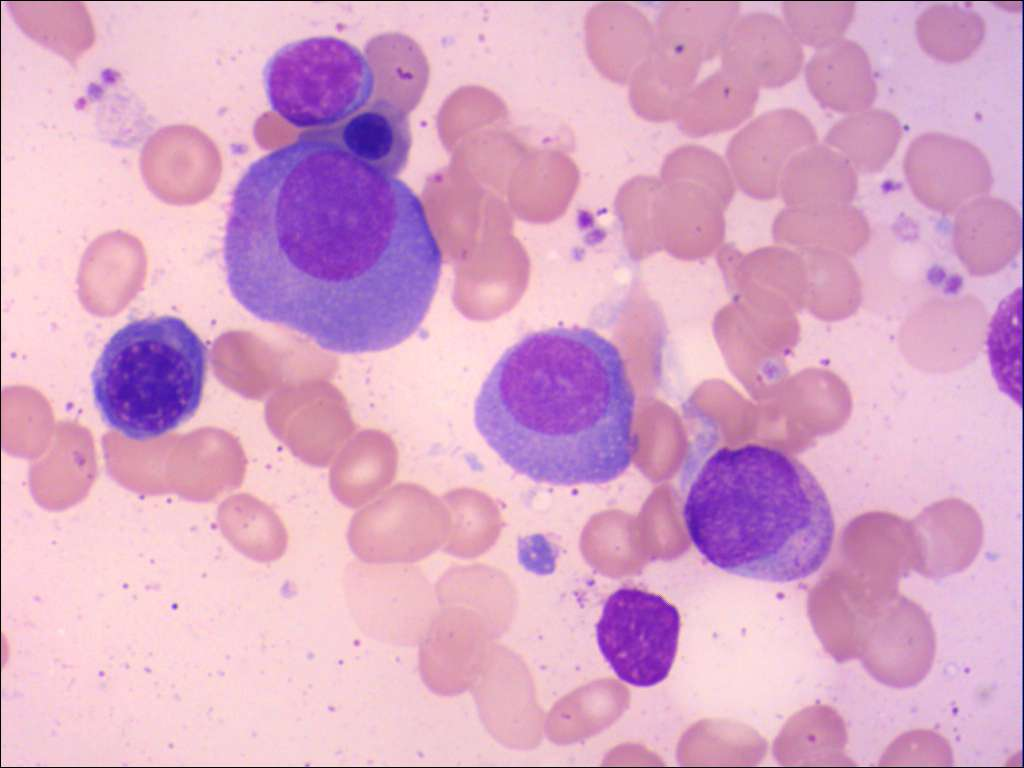23: (87, 312, 213, 444)
24: (295, 94, 415, 181)
3: (679, 442, 836, 587)
32: (258, 33, 376, 131)
51: (217, 135, 445, 356), (471, 322, 644, 491)
x: (592, 583, 684, 692)
